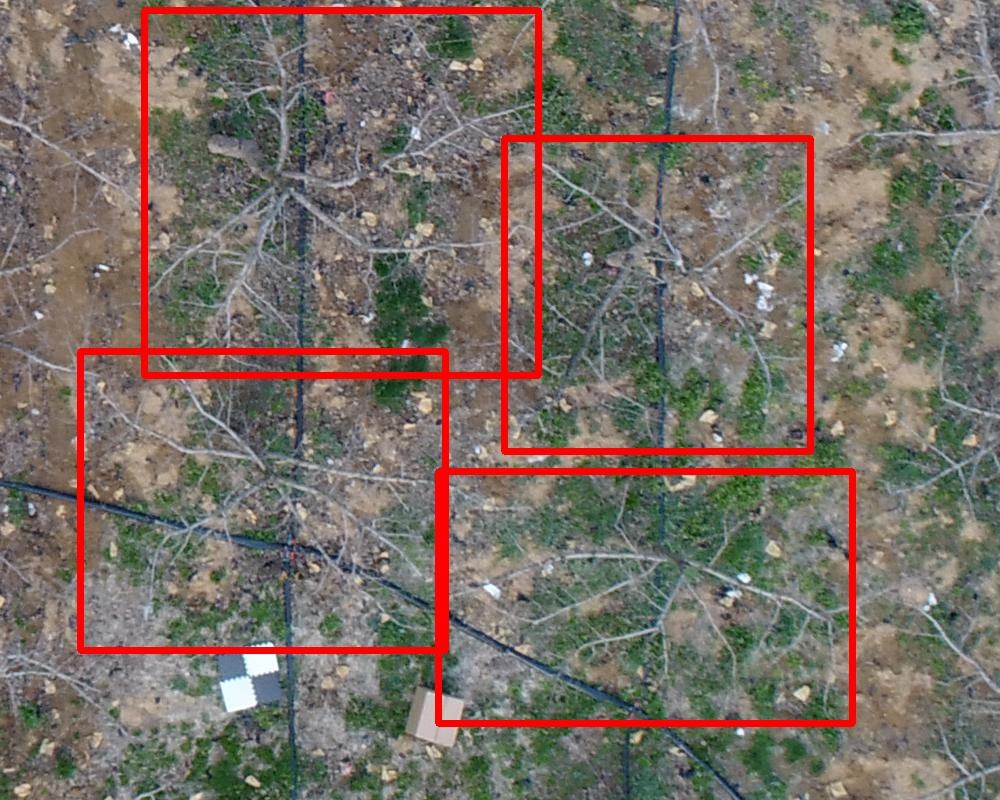apple: (144, 10, 538, 375), (80, 351, 445, 650), (438, 471, 852, 723), (504, 138, 810, 451)
